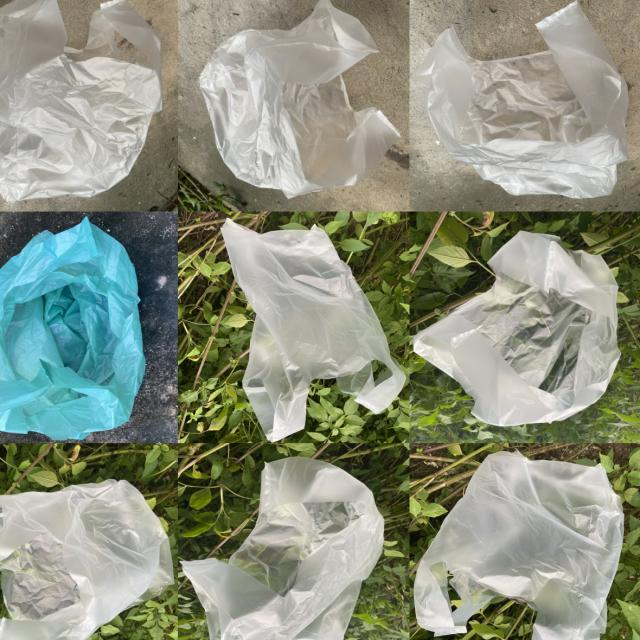plastik: (417, 3, 628, 198), (222, 219, 406, 441), (413, 232, 621, 426), (200, 0, 400, 198), (414, 451, 623, 640), (182, 458, 385, 640), (0, 0, 162, 202), (0, 217, 144, 440), (0, 480, 174, 640)
